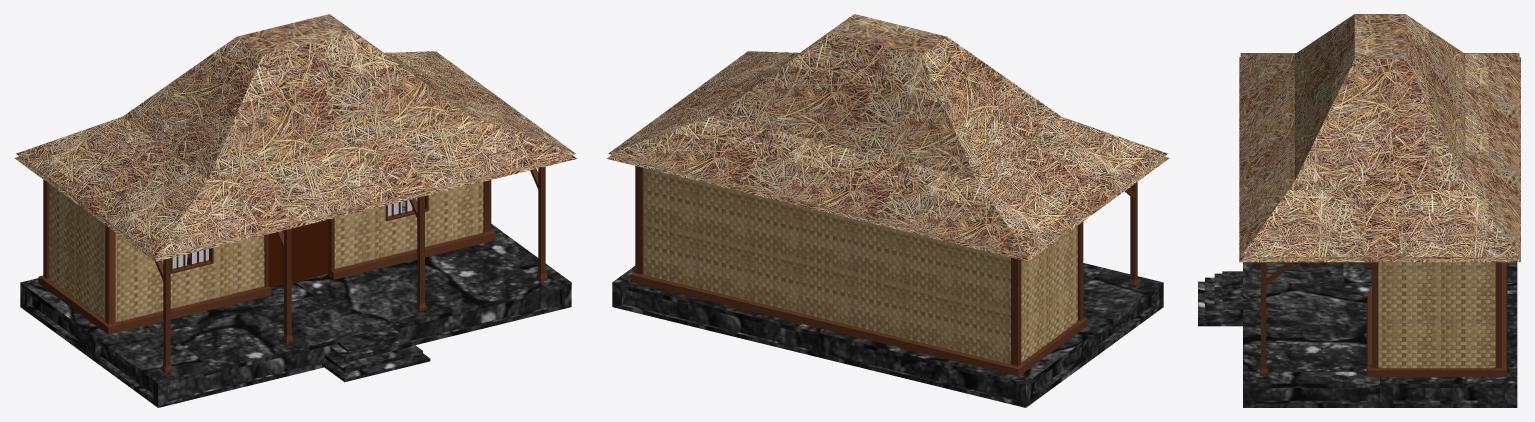
The model's file is Bangunan Bale Daja.fbx.
3 renders of one model, left to right at view 1: azimuth 30°, elevation 25°; view 2: azimuth 150°, elevation 25°; view 3: azimuth 270°, elevation 25°, orthographic.
Parts seen in each view (by area): view 1: Atap Bale Daja, Pondasi Bale Daja, Tiang Bale Daja, Tangga Bale Daja, Pintu Bale Daja, Tirai Bale Daja; view 2: Atap Bale Daja, Tiang Bale Daja, Pondasi Bale Daja; view 3: Atap Bale Daja, Pondasi Bale Daja, Tiang Bale Daja, Tangga Bale Daja.
Boxes of the visible parts, box(x1,y1,x2,y2) form: Atap Bale Daja: box(14, 14, 577, 261); Pondasi Bale Daja: box(20, 202, 571, 407); Tiang Bale Daja: box(38, 166, 547, 373); Tangga Bale Daja: box(320, 328, 430, 382); Pintu Bale Daja: box(268, 219, 328, 287); Tirai Bale Daja: box(172, 198, 417, 268); Atap Bale Daja: box(606, 14, 1169, 261); Tiang Bale Daja: box(630, 166, 1139, 376); Pondasi Bale Daja: box(612, 263, 1163, 407); Atap Bale Daja: box(1239, 14, 1520, 262); Pondasi Bale Daja: box(1243, 262, 1517, 407); Tiang Bale Daja: box(1259, 262, 1507, 377); Tangga Bale Daja: box(1198, 271, 1242, 326).
Bounding box in the file's own units: 17.93 × 11.06 × 11.94.
